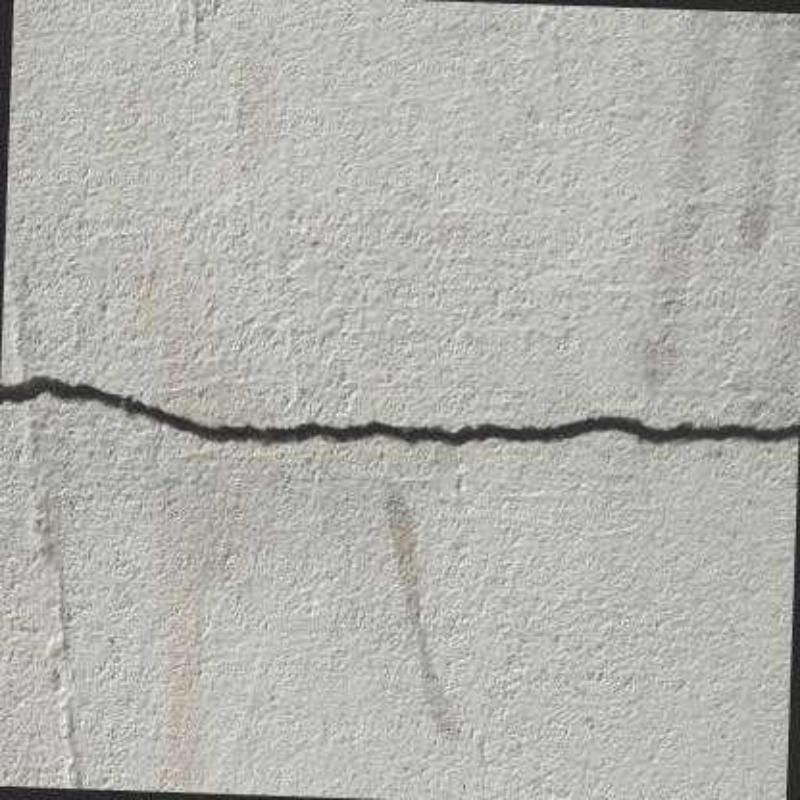pothole: (0, 373, 799, 450)
